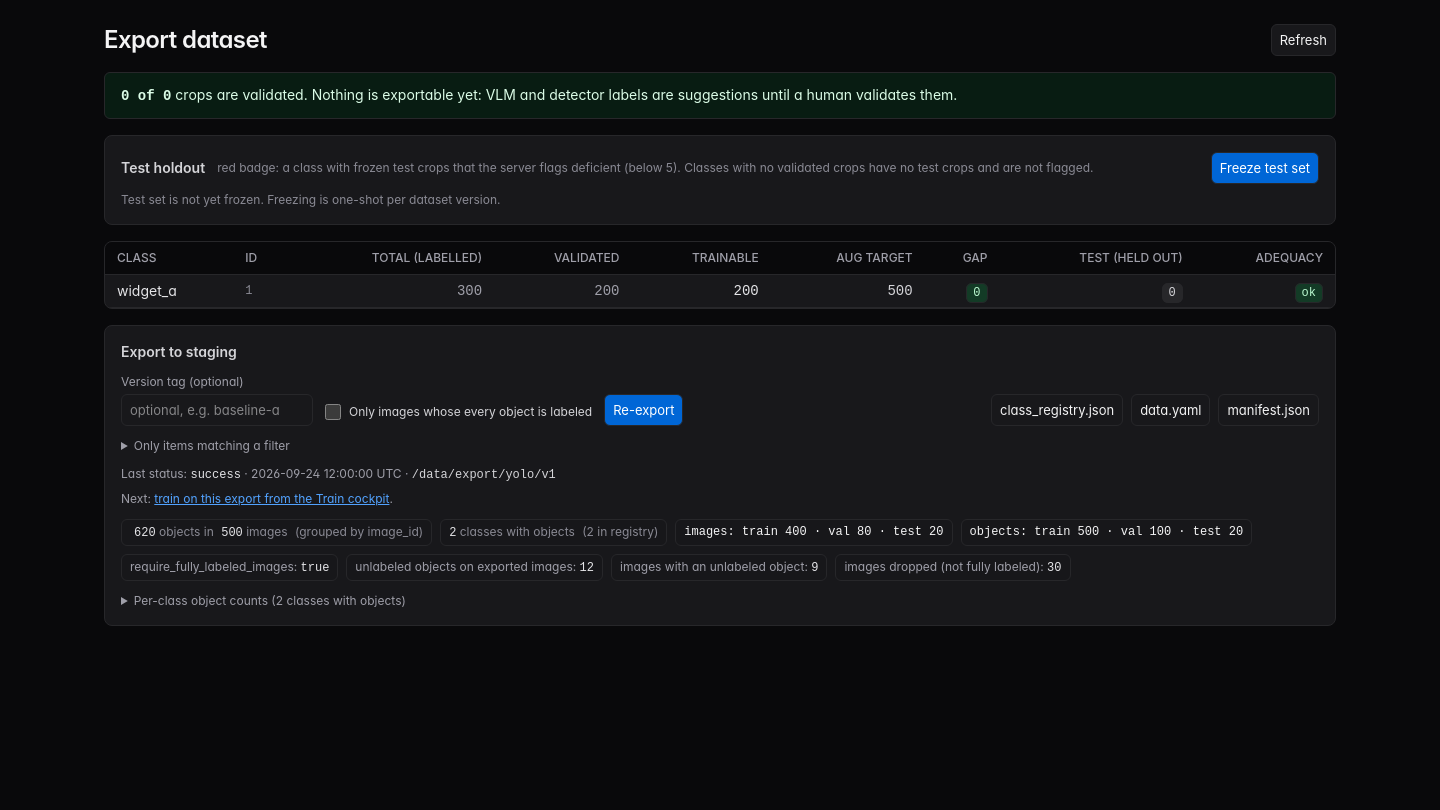
Test: /export — served split counts (OpenProcessor df01309) › renders image/class totals, split totals, and a per-class table highlighting 0-train/0-val classes
Click the heading "Per-class object counts (2 classes with objects)". click: point(270, 600)
box: top-left (134, 593), bottom-right (406, 608)
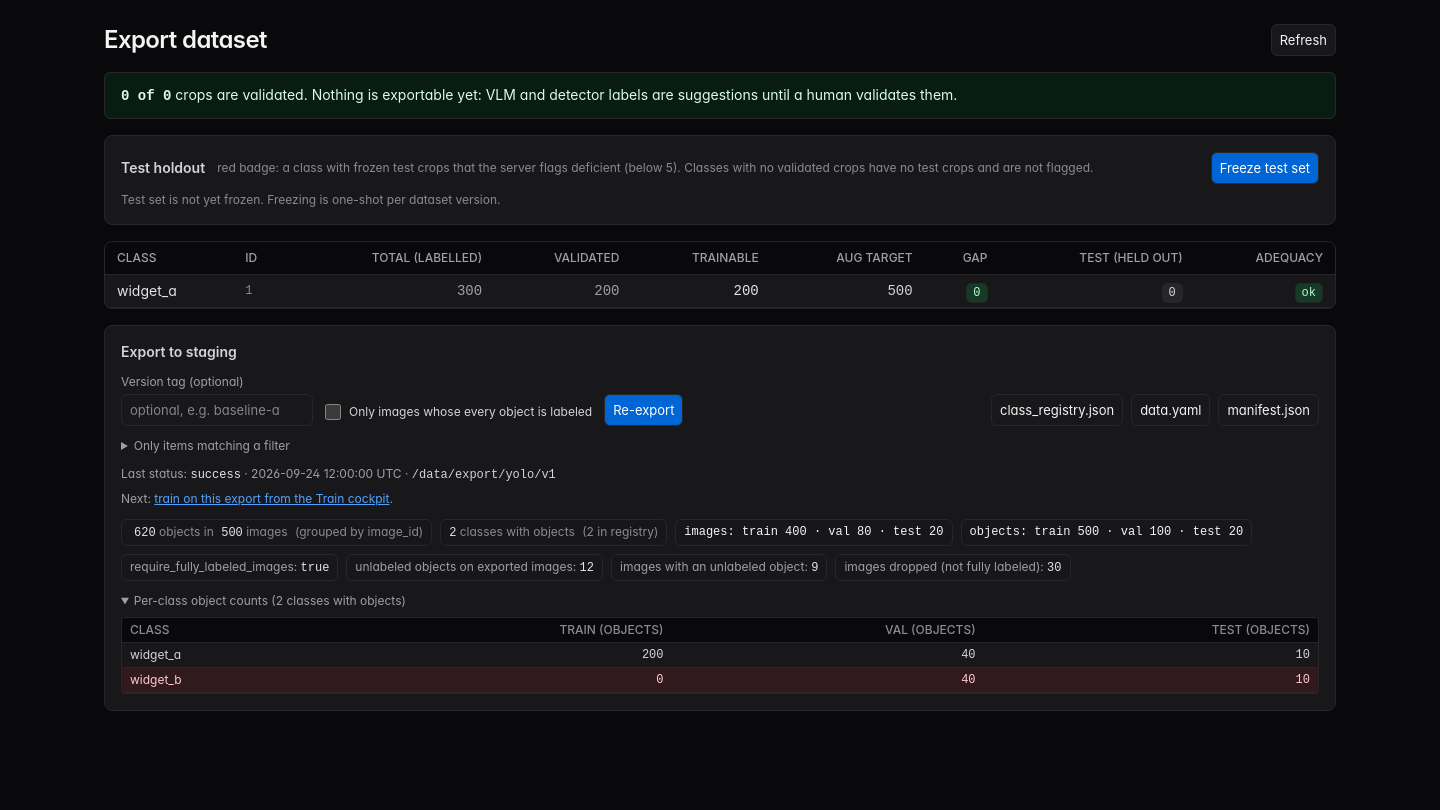
expect the text "widget_b" is shown: met, box top-left (122, 668), bottom-right (320, 692)
